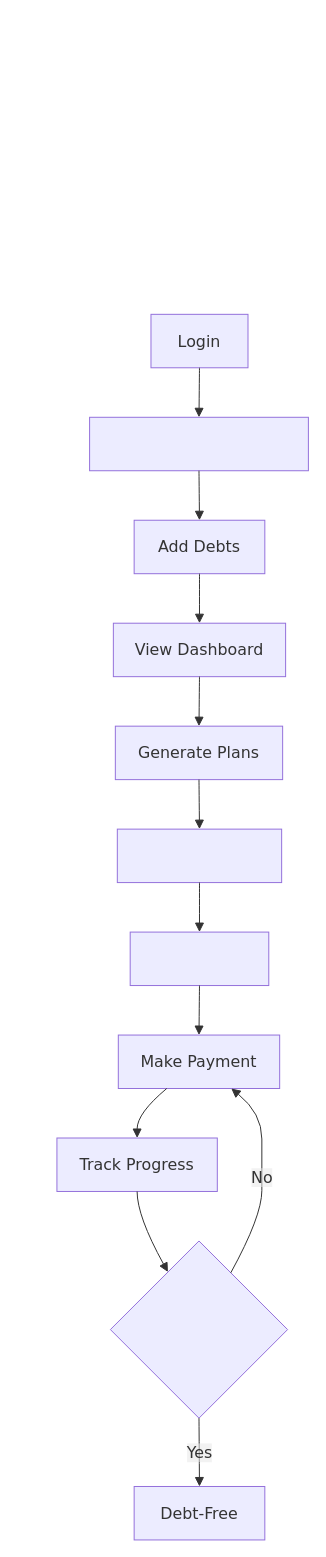
This 326x1557 diagram has some shape labels left out. Here are the shapes that lost their labels. From the top down, the centre of each, then its label:
the point at 198,443: Setup Financial Profile
the point at 199,855: Compare Plans
the point at 199,958: Select Plan
the point at 198,1329: Debt Paid Off?
